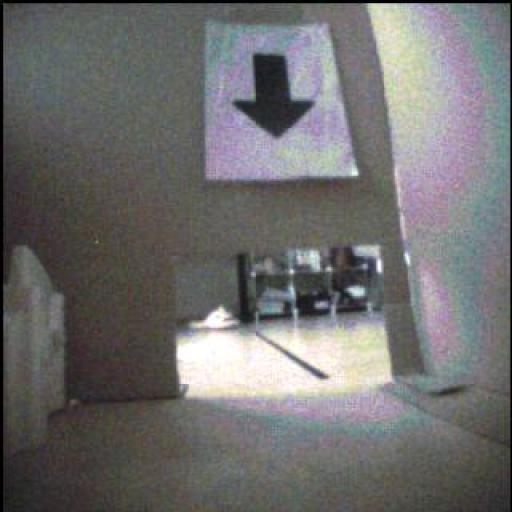arrow: (235, 56, 315, 139)
